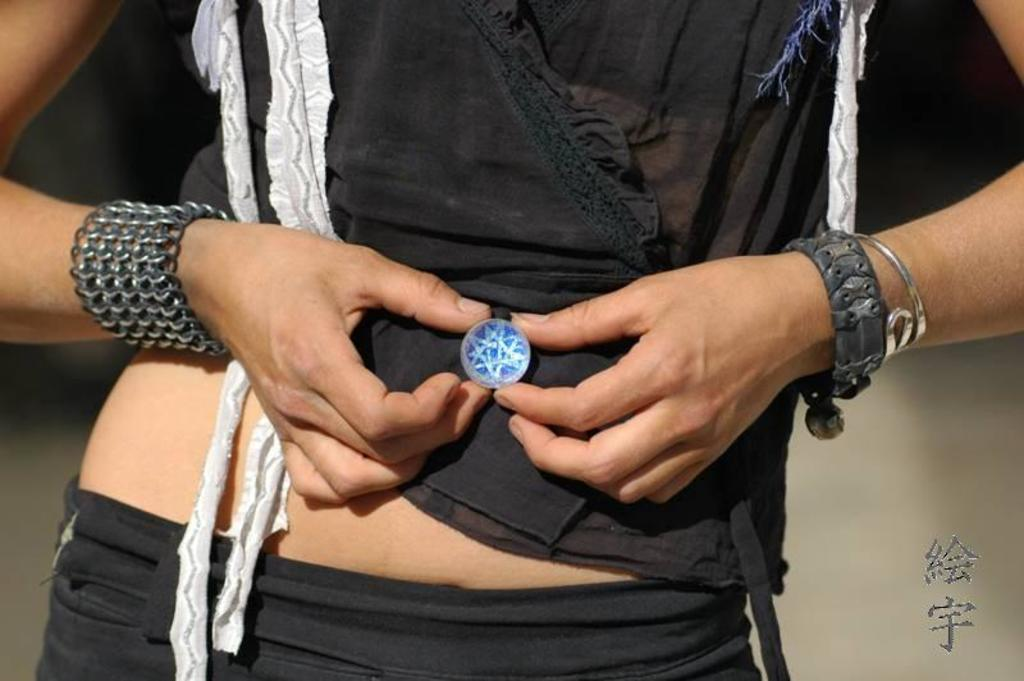Human_hand: (193, 218, 494, 507), (511, 273, 859, 521)
